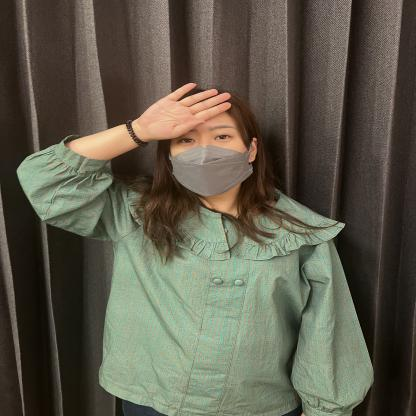Sick: (72, 56, 313, 222)
